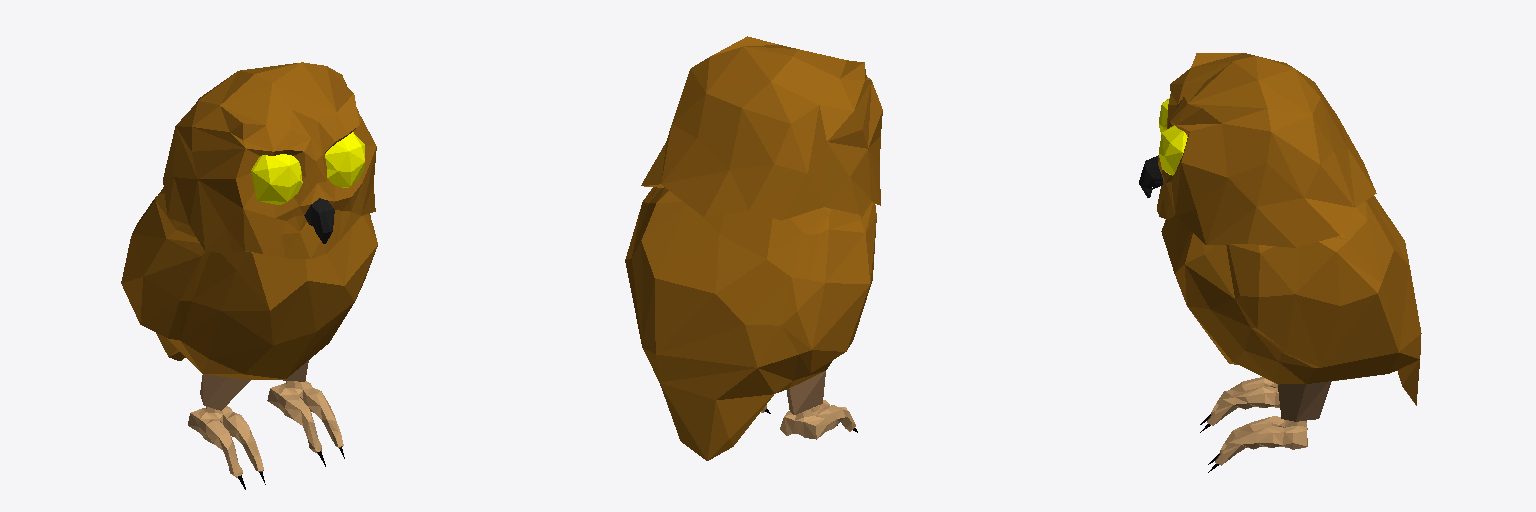
Rendered from owl.obj.
3 views of the same model, side by side, from view 1: azimuth 30°, elevation 25°; view 2: azimuth 150°, elevation 25°; view 3: azimuth 270°, elevation 25° (orthographic).
Parts seen in each view (by area): view 1: owl_Body5 owl_polySurface1; view 2: owl_Body5 owl_polySurface1; view 3: owl_Body5 owl_polySurface1.
Boxes of the visible parts, <box> form: owl_Body5 owl_polySurface1: <box>121,62,377,489</box>; owl_Body5 owl_polySurface1: <box>625,36,882,460</box>; owl_Body5 owl_polySurface1: <box>1139,53,1421,472</box>.
Size of the model in its own units: 1.87 by 3.22 by 2.13.